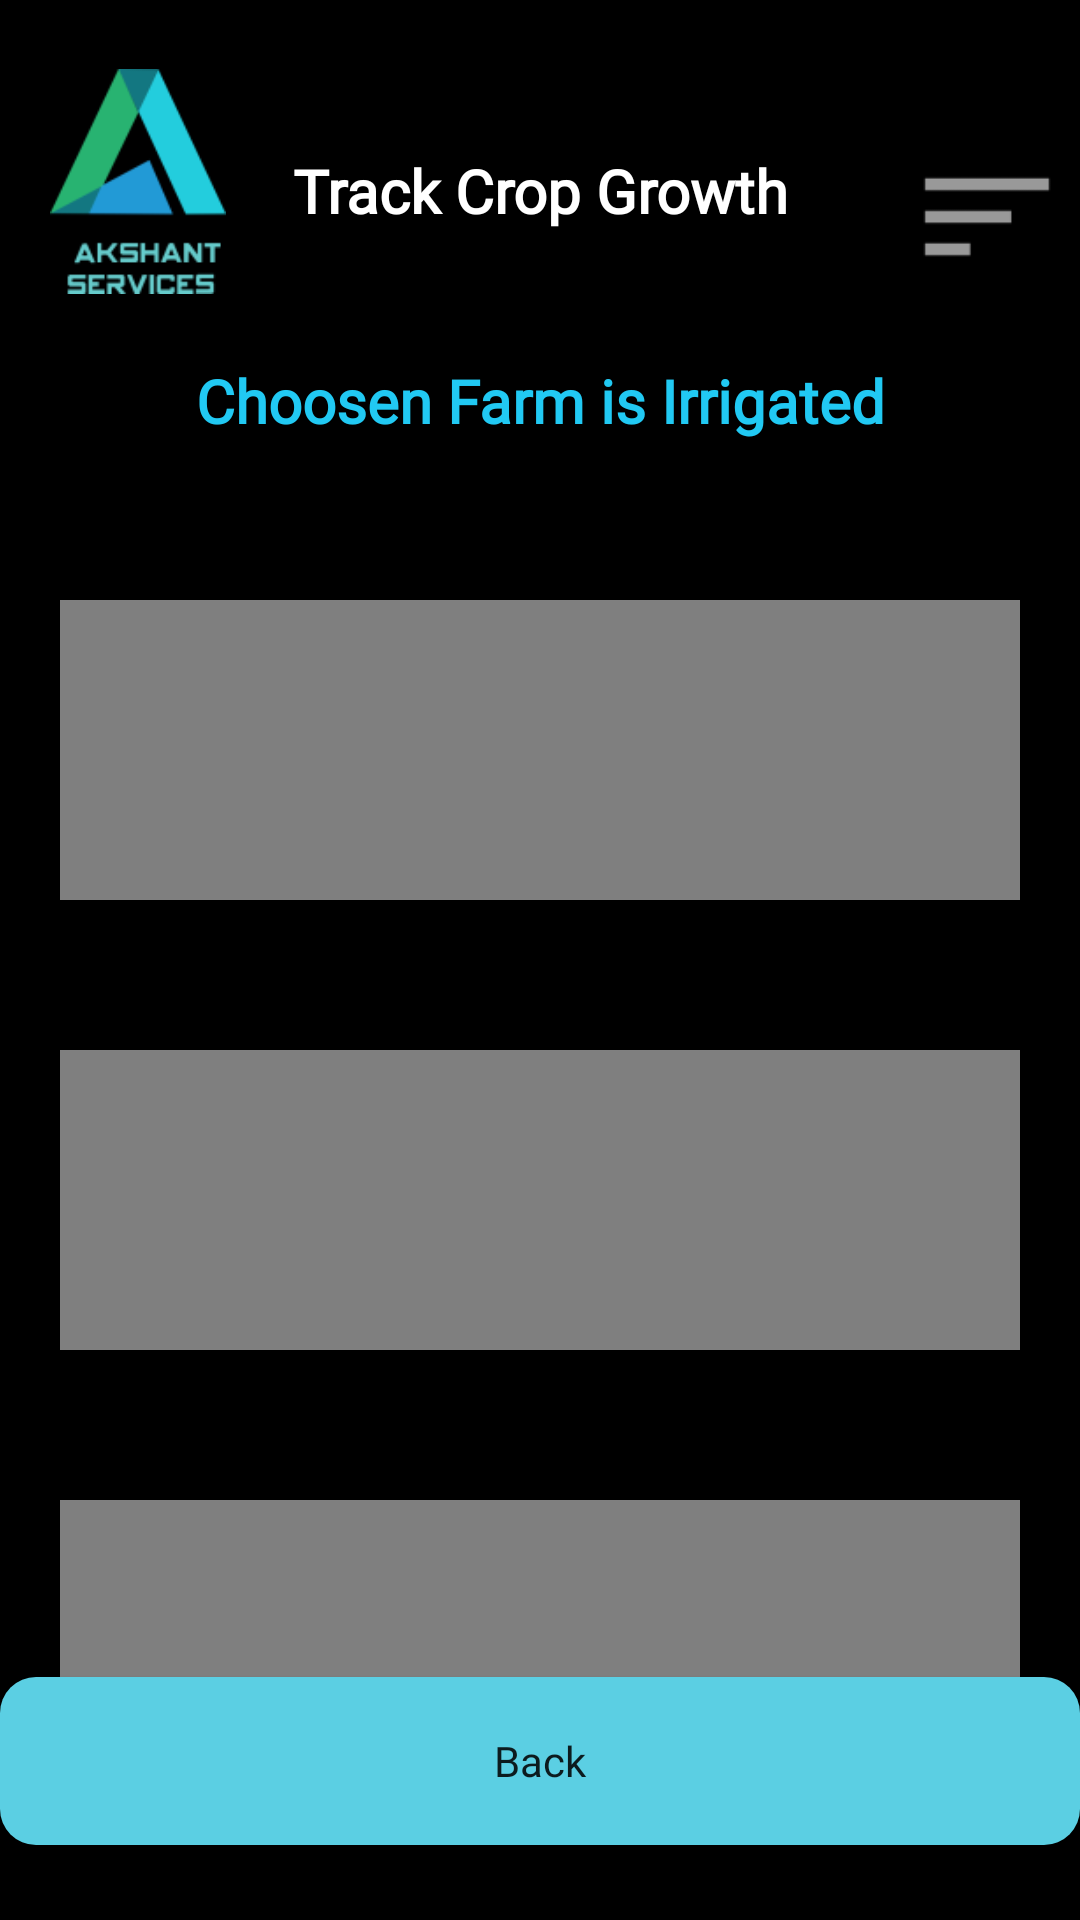

Screen size 1080 × 1920. Icon name, then its center in pixels as point (x, y):
sort by size: point (987, 216)
